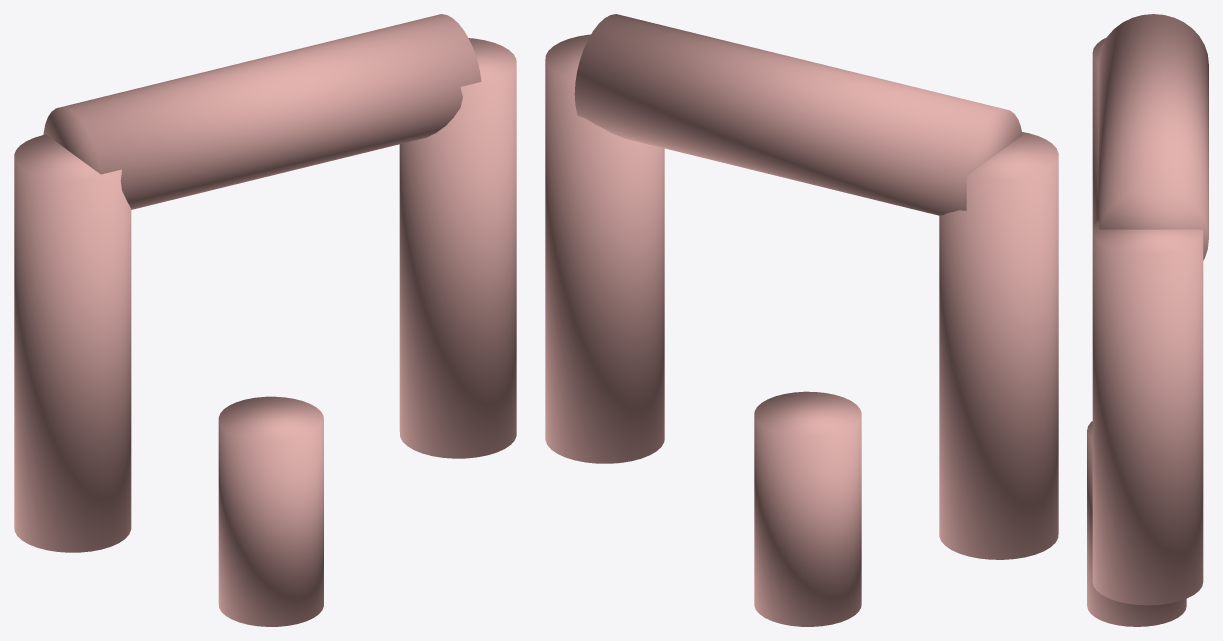
Rendered from Organ_Large_Intestine.fbx.
The picture shows the model from 3 angles, left to right: view 1: azimuth 30°, elevation 25°; view 2: azimuth 150°, elevation 25°; view 3: azimuth 270°, elevation 25°; orthographic projection. The views are drawn at different scales.
Parts seen in each view (by area): view 1: Organ_Large_Intestine; view 2: Organ_Large_Intestine; view 3: Organ_Large_Intestine.
Boxes of the visible parts, x1=… form: Organ_Large_Intestine: x1=14, y1=14, x2=516, y2=626; Organ_Large_Intestine: x1=545, y1=14, x2=1058, y2=626; Organ_Large_Intestine: x1=1087, y1=14, x2=1208, y2=626.
Size of the model in its own units: 0.96 by 1.01 by 0.22.
